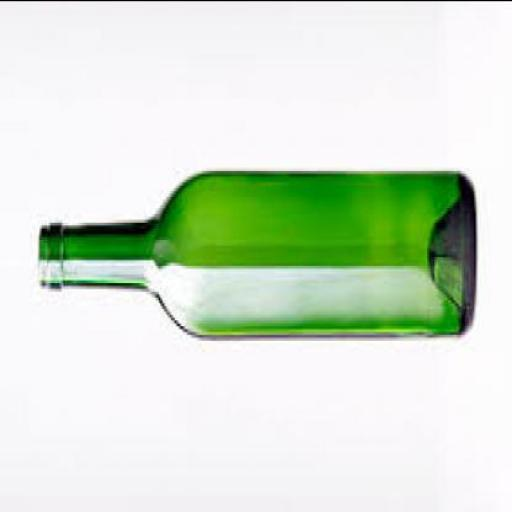glass: (38, 175, 474, 343)
